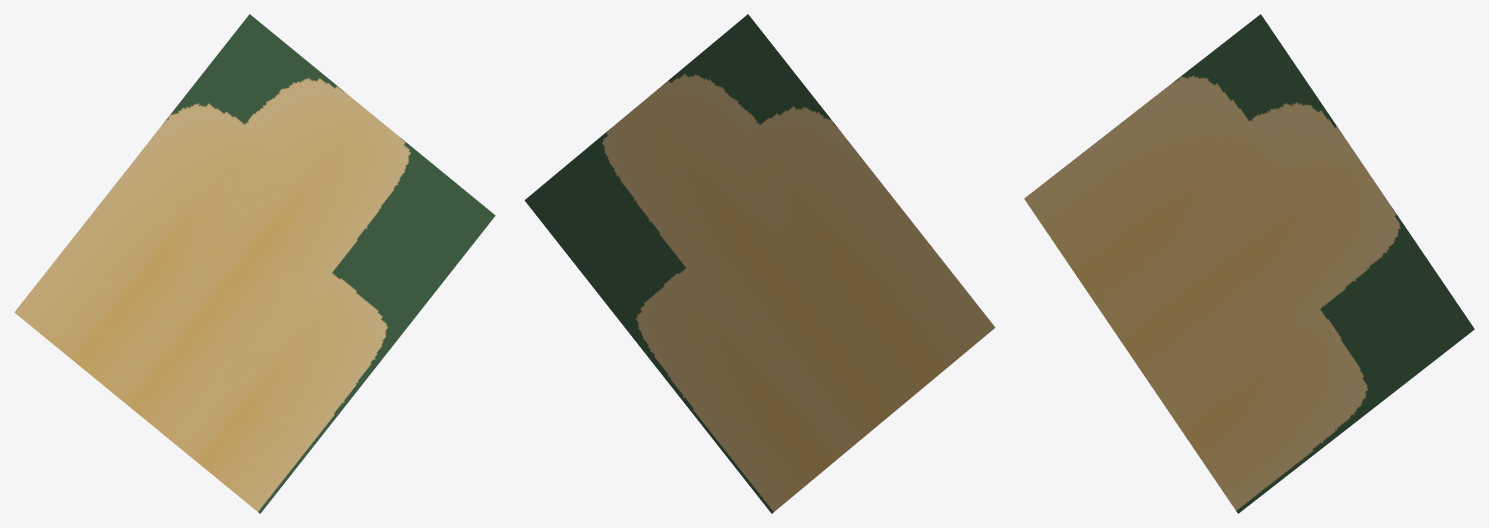
The picture shows the model from 3 angles, left to right: view 1: azimuth 30°, elevation 25°; view 2: azimuth 150°, elevation 25°; view 3: azimuth 330°, elevation 25°; orthographic projection. The views are drawn at different scales.
Visible parts, largest first — view 1: dynamiclight.png__; view 2: dynamiclight.png__; view 3: dynamiclight.png__.
Part boxes in pixels (x1,y1,x2,y2): dynamiclight.png__: (14, 14, 495, 513); dynamiclight.png__: (524, 14, 995, 513); dynamiclight.png__: (1024, 14, 1474, 513).
Size of the model in its own units: 24.96 by 24.95 by 1.54.
Materials: 1 (1 with a texture image).
